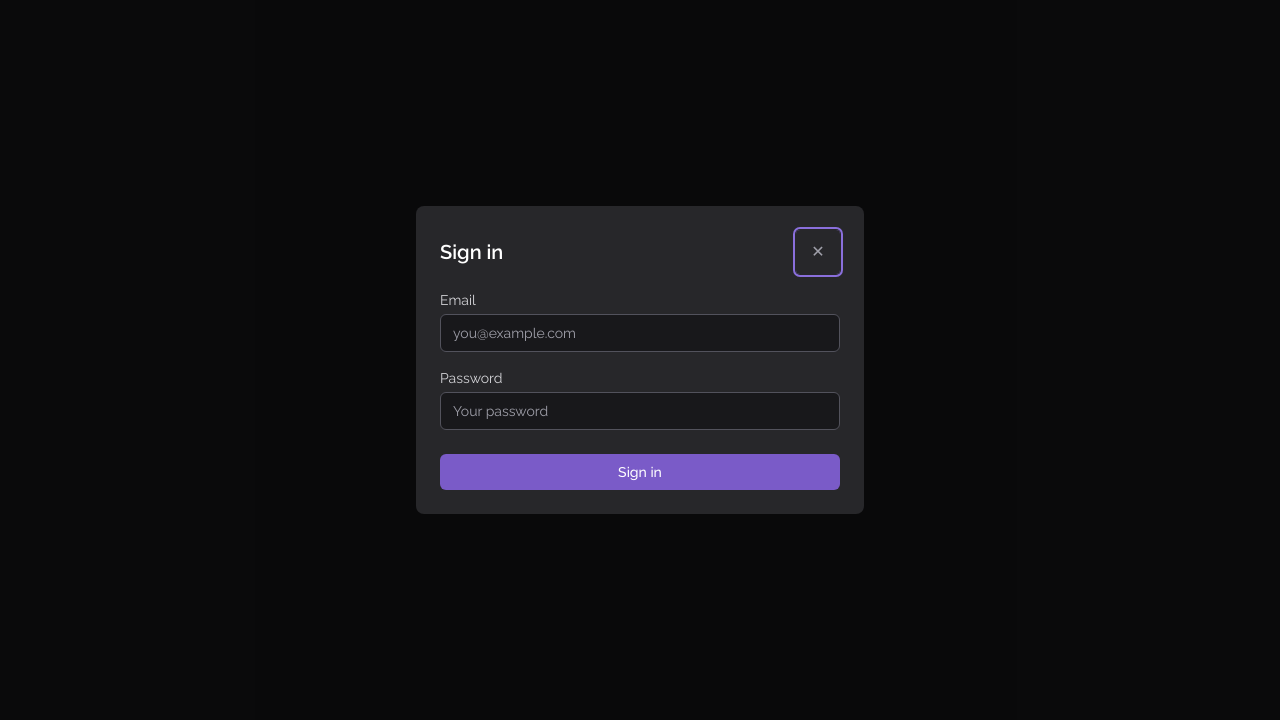
Test: SignInModal › disables the submit button while the sign-in request is in progress
Type "test@example.com" into the field labelled "Email" at coordinates (640, 333), box [440, 314, 840, 352]
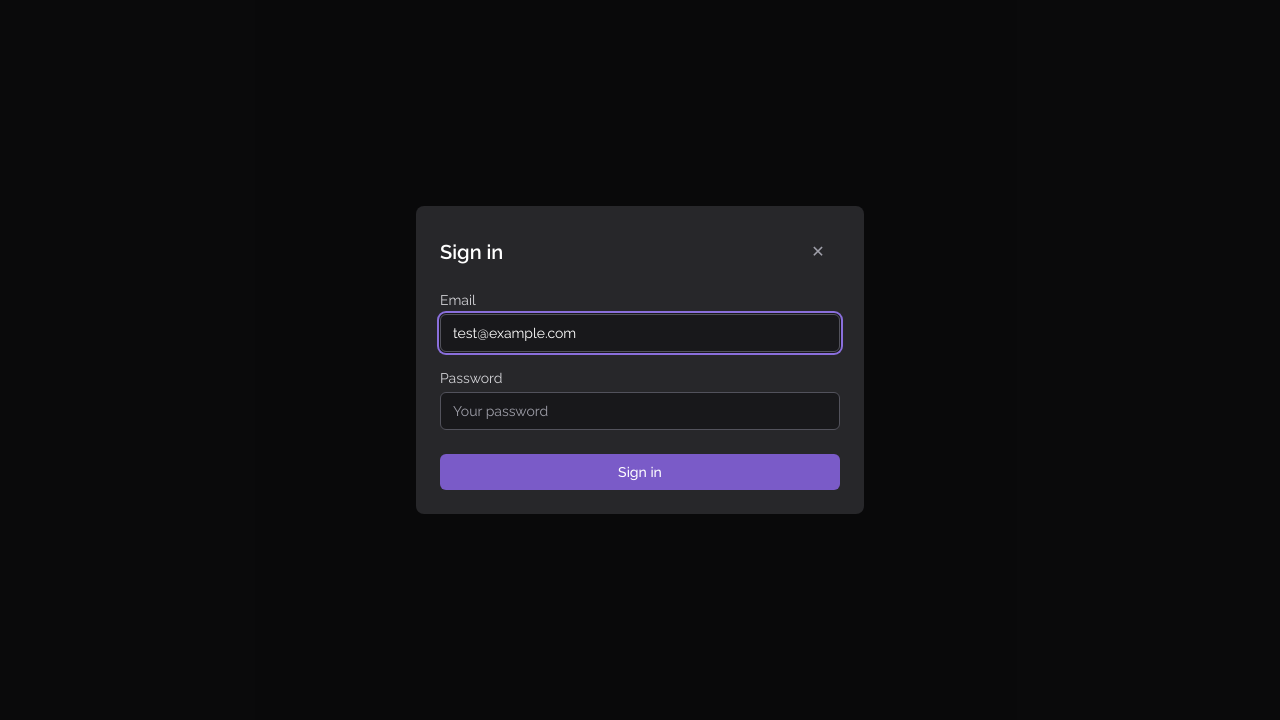
Type "password" into the password field labelled "Password" at coordinates (640, 411), box [440, 392, 840, 430]
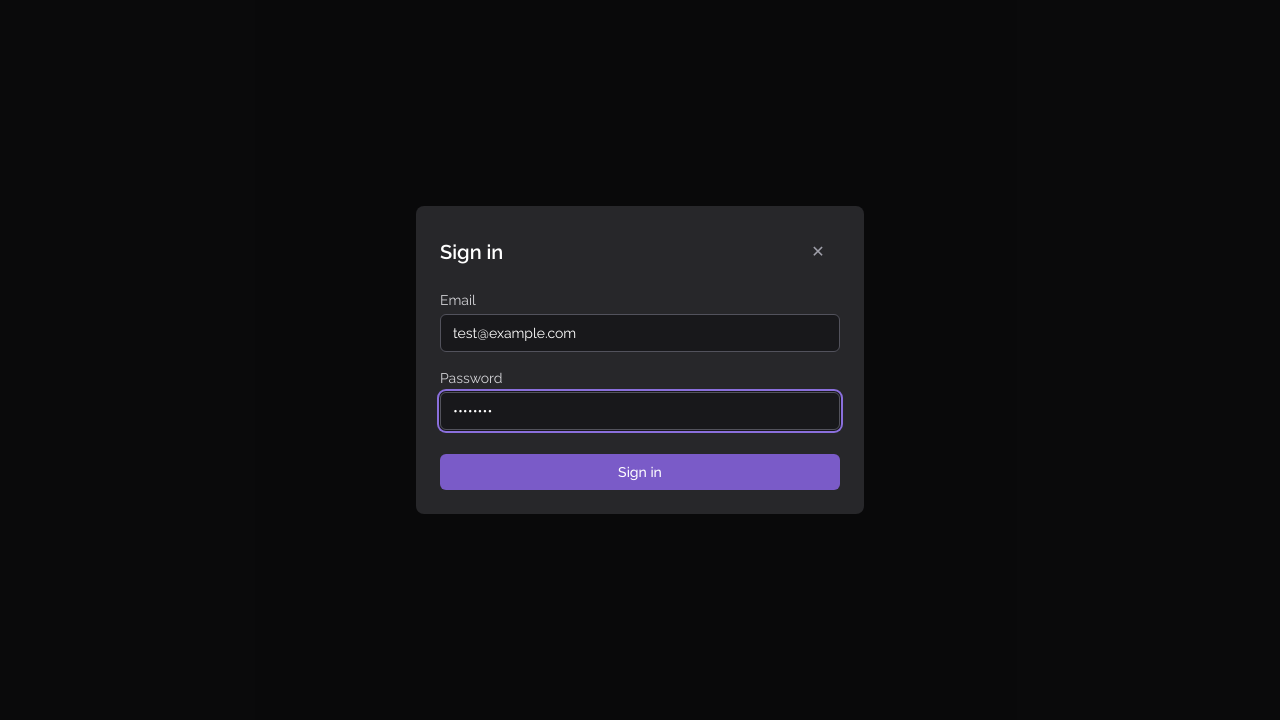
Click the button "Sign in" at coordinates (640, 472), box [440, 454, 840, 490]
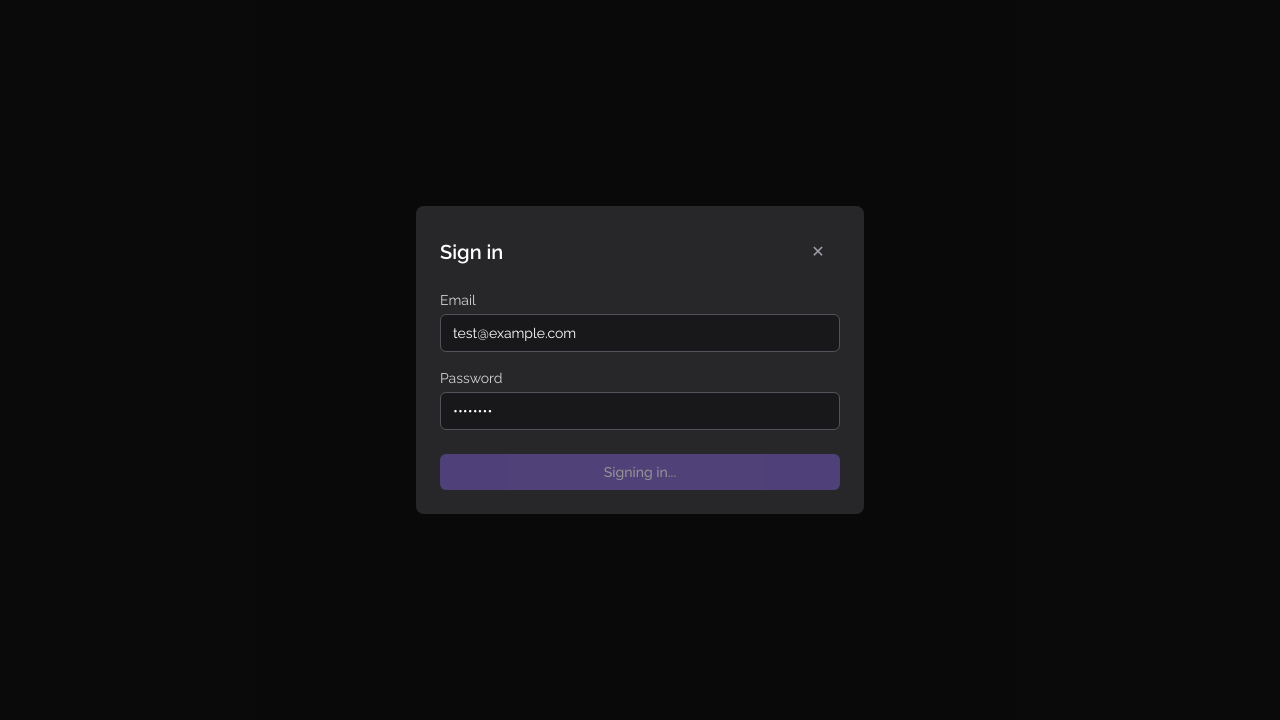
expect the button "Signing in..." is disabled: met, box [440, 454, 840, 490]
